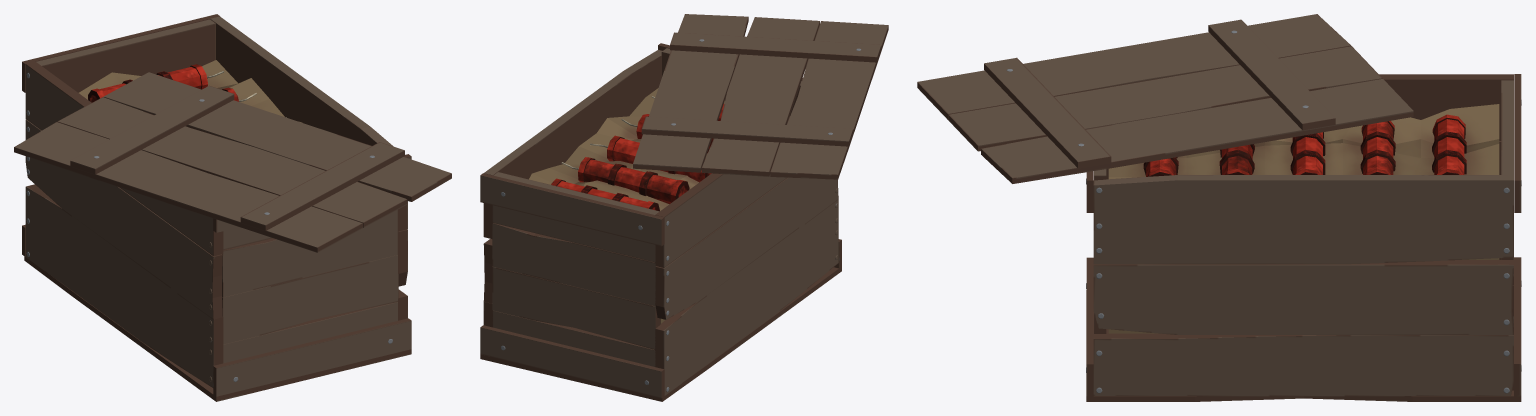
Rendered from Crate_LidOpen.fbx.
3 views of the same model, side by side, from view 1: azimuth 30°, elevation 25°; view 2: azimuth 150°, elevation 25°; view 3: azimuth 270°, elevation 25° (orthographic). The views are drawn at different scales.
Parts seen in each view (by area): view 1: Lid.002, Side_03.004, Side_02.004, Side_01.004, Side_04.004, Crate.004, Hay.004, TNT.003; view 2: Lid.002, Side_04.004, Side_03.004, Side_01.004, Hay.004, polySurface18.015, Crate.004, polySurface18.016, TNT.003, Side_02.004; view 3: Side_01.004, Lid.002, Hay.004, Side_03.004, Side_04.004, Crate.004, TNT.003, polySurface18.015, Side_02.004, polySurface18.016, polySurface18.017, polySurface18.018.
Part boxes in pixels (x1,y1,x2,y2): Lid.002: [14, 72, 451, 252]; Side_03.004: [25, 61, 223, 387]; Side_02.004: [213, 154, 411, 396]; Side_01.004: [210, 16, 407, 320]; Side_04.004: [22, 14, 219, 256]; Crate.004: [24, 256, 411, 401]; Hay.004: [79, 60, 302, 122]; TNT.003: [88, 64, 223, 102]; Lid.002: [633, 14, 888, 179]; Side_04.004: [480, 172, 664, 398]; Side_03.004: [655, 116, 838, 395]; Side_01.004: [483, 49, 662, 327]; Hay.004: [529, 88, 724, 323]; polySurface18.015: [561, 157, 689, 203]; Crate.004: [480, 267, 841, 401]; polySurface18.016: [590, 135, 711, 182]; TNT.003: [551, 178, 659, 211]; Side_02.004: [658, 43, 841, 268]; Side_01.004: [1093, 175, 1513, 396]; Lid.002: [917, 14, 1413, 183]; Hay.004: [1108, 104, 1499, 333]; Side_03.004: [1106, 74, 1513, 259]; Side_04.004: [1501, 74, 1521, 396]; Crate.004: [1086, 290, 1521, 401]; TNT.003: [1432, 114, 1466, 174]; polySurface18.015: [1360, 120, 1395, 174]; Side_02.004: [1086, 169, 1106, 396]; polySurface18.016: [1290, 132, 1325, 174]; polySurface18.017: [1219, 144, 1254, 174]; polySurface18.018: [1143, 157, 1178, 176].
Size of the model in its own units: 111 by 73.52 by 172.
